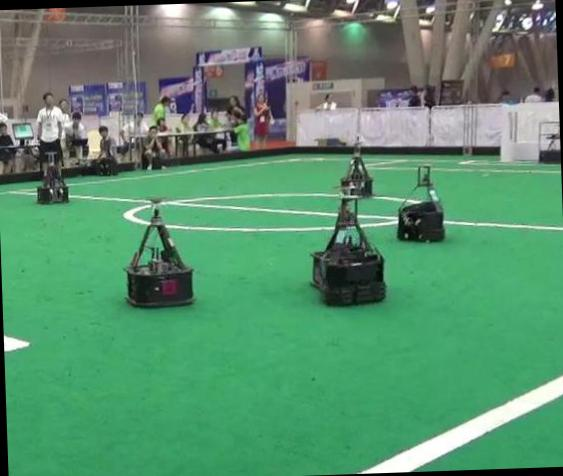goal: (501, 105, 510, 161)
robot: (313, 197, 386, 305), (126, 205, 192, 306), (398, 164, 445, 241), (340, 136, 373, 196), (36, 151, 67, 202), (540, 121, 561, 162)
